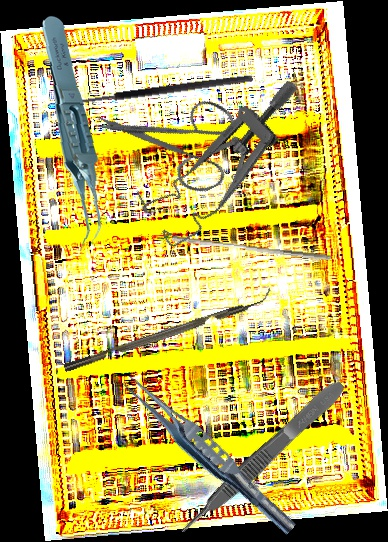Chopper: (59, 285, 276, 373)
Hook Surgical: (57, 73, 255, 119)
Iris Scissors: (89, 64, 256, 224)
Pusher: (170, 235, 333, 261)
Speculum: (122, 75, 336, 254)
Tissue Forceps: (114, 369, 304, 539), (173, 376, 350, 539), (27, 15, 113, 251)
